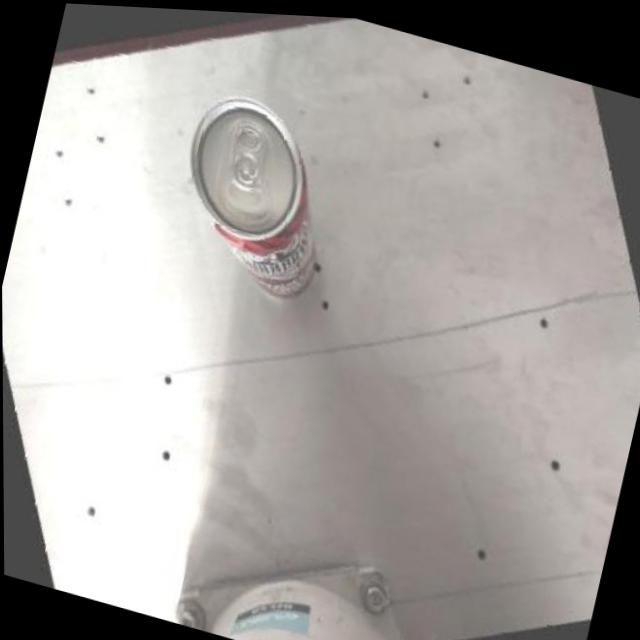metal: (193, 98, 319, 296)
